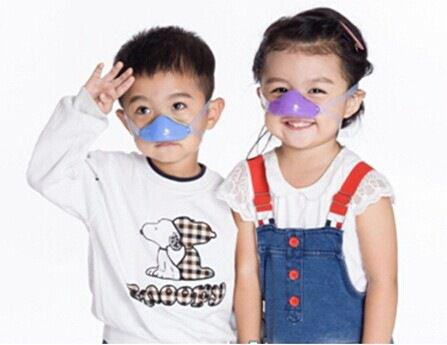WRONG: (124, 89, 197, 162), (262, 76, 334, 148)
